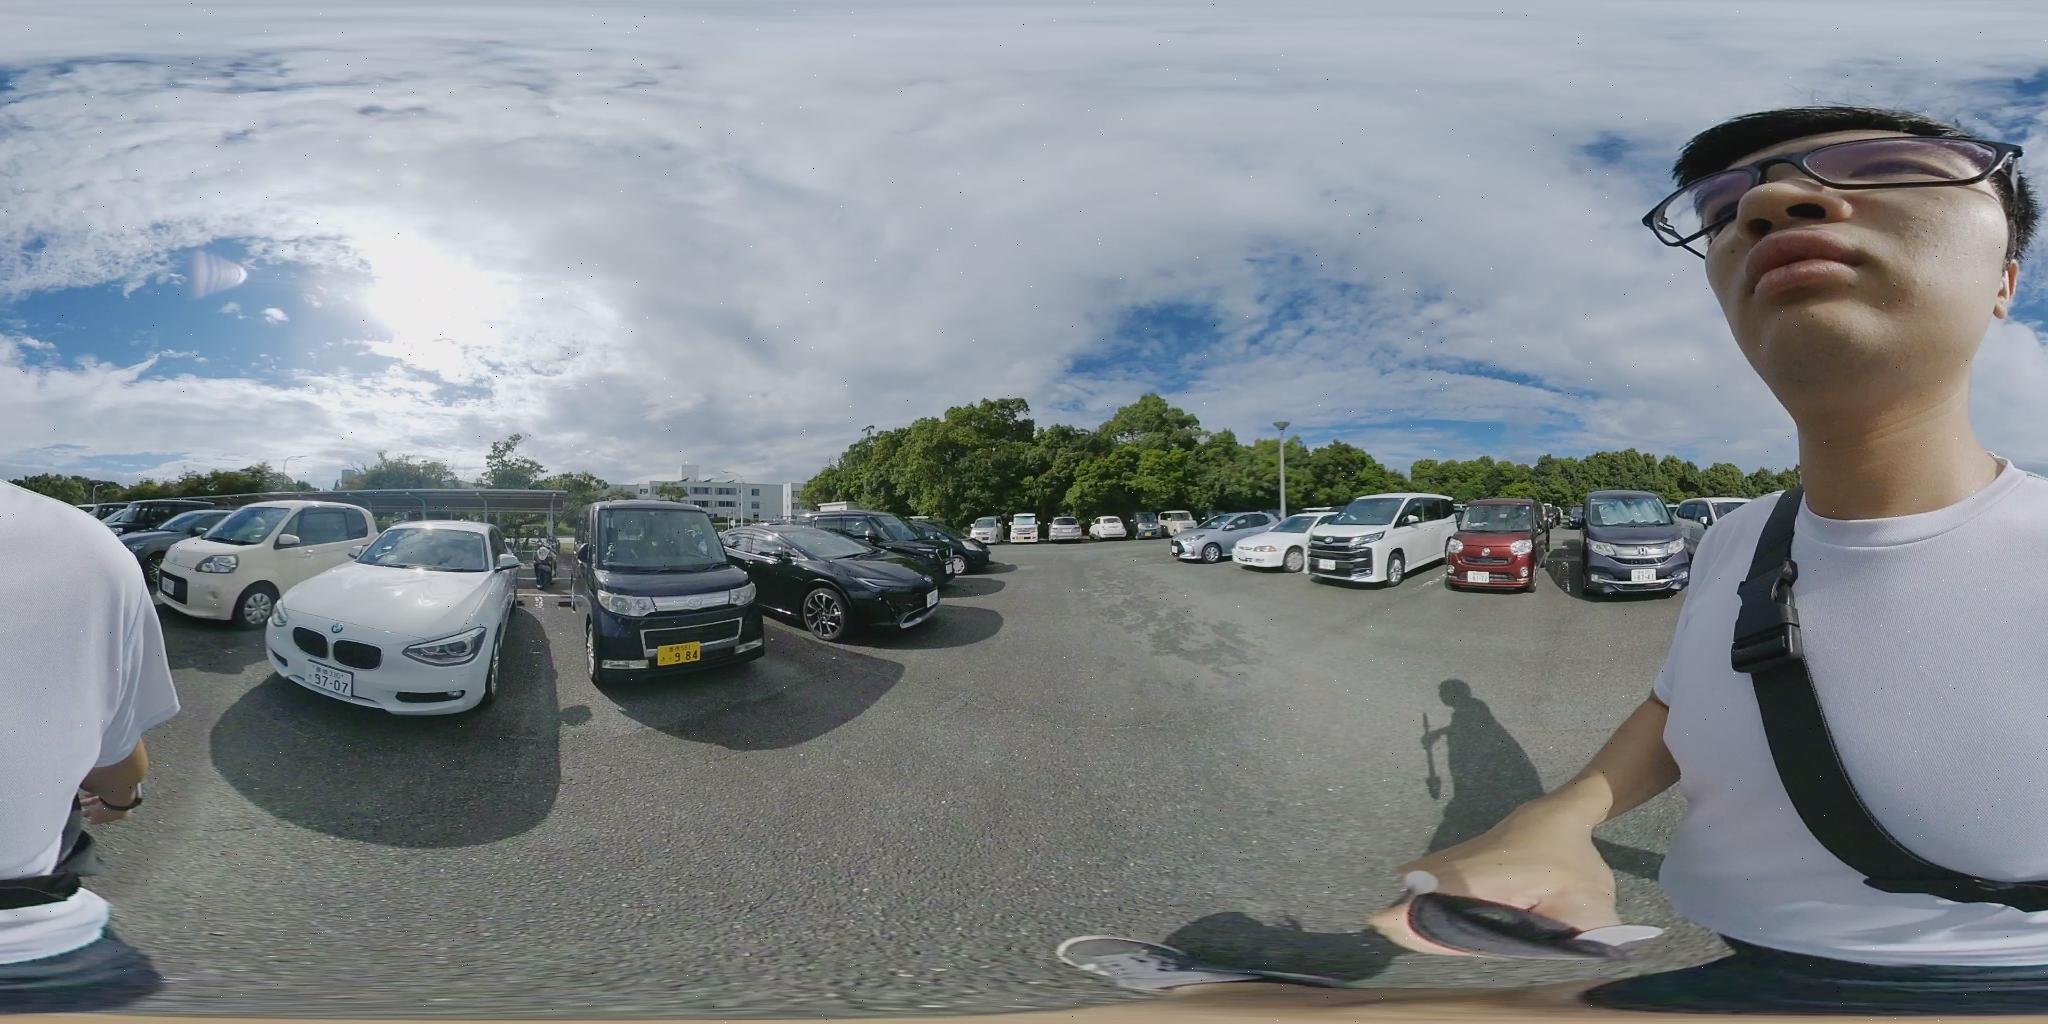car: (266, 519, 532, 713), (571, 499, 755, 675), (141, 503, 385, 627), (717, 524, 943, 643), (1304, 494, 1469, 585), (1557, 492, 1697, 601), (806, 511, 991, 581), (1445, 502, 1544, 593), (114, 507, 231, 563), (1232, 515, 1326, 572), (1170, 516, 1267, 563)
